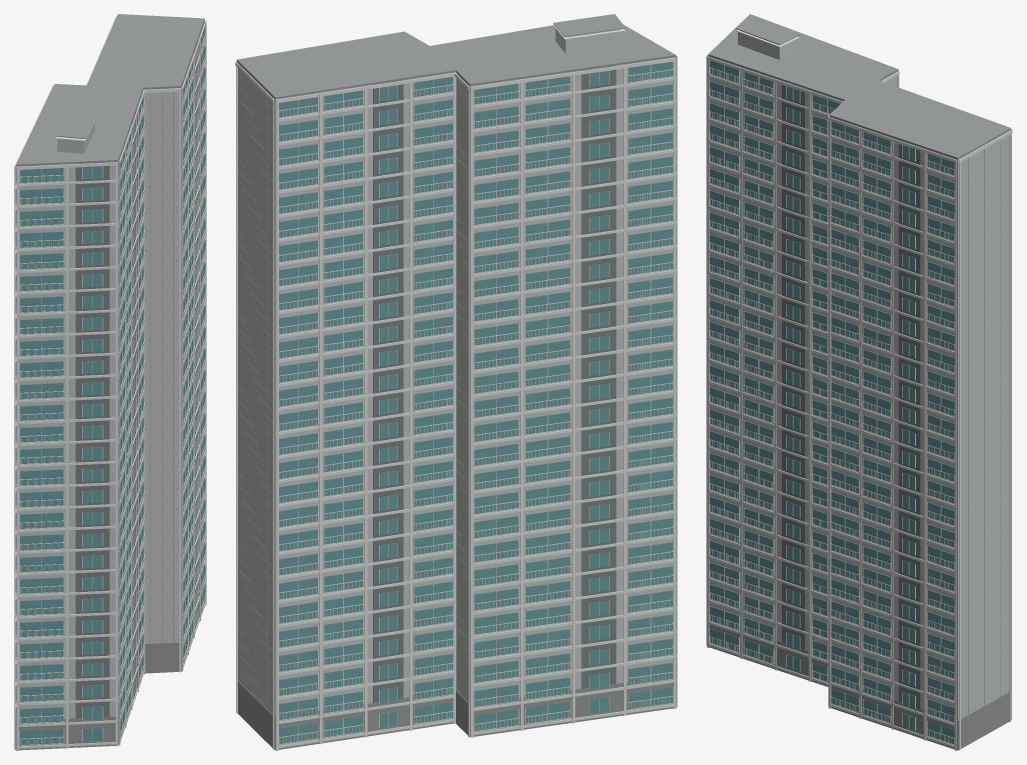
The model's file is bespoke-jamsil-ricenz-209.glb.
The picture shows the model from 3 angles, left to right: view 1: azimuth 30°, elevation 25°; view 2: azimuth 150°, elevation 25°; view 3: azimuth 270°, elevation 25°; orthographic projection. The views are drawn at different scales.
Parts seen in each view (by area): view 1: Ricenz209_editable_Ricenz209_turquoise_balcony_glazing, Ricenz209_editable_Ricenz209_light_grey_solid_wall, Ricenz209_white_exact_chunk_4, Ricenz209_editable_Ricenz209_modest_grey_flat_roof_caps, Ricenz209_editable_Ricenz209_narrow_charcoal_service_strips, Ricenz209_white_exact_chunk_5, Ricenz209_white_exact_chunk_0, Ricenz209_white_exact_chunk_3, Ricenz209_white_exact_chunk_1, Ricenz209_editable_Ricenz209_muted_ground_wall; view 2: Ricenz209_editable_Ricenz209_turquoise_balcony_glazing, Ricenz209_editable_Ricenz209_light_grey_solid_wall, Ricenz209_white_exact_chunk_2, Ricenz209_white_exact_chunk_3, Ricenz209_white_exact_chunk_1, Ricenz209_editable_Ricenz209_narrow_charcoal_service_strips, Ricenz209_editable_Ricenz209_modest_grey_flat_roof_caps, Ricenz209_editable_Ricenz209_muted_ground_wall, Ricenz209_white_exact_chunk_4; view 3: Ricenz209_editable_Ricenz209_turquoise_balcony_glazing, Ricenz209_editable_Ricenz209_light_grey_solid_wall, Ricenz209_white_exact_chunk_0, Ricenz209_white_exact_chunk_5, Ricenz209_editable_Ricenz209_modest_grey_flat_roof_caps, Ricenz209_white_exact_chunk_1, Ricenz209_editable_Ricenz209_narrow_charcoal_service_strips, Ricenz209_white_exact_chunk_4, Ricenz209_editable_Ricenz209_muted_ground_wall, Ricenz209_white_exact_chunk_2.
Boxes of the visible parts, x1,y1,x2,y2 form: Ricenz209_editable_Ricenz209_turquoise_balcony_glazing: (16,24,205,745); Ricenz209_editable_Ricenz209_light_grey_solid_wall: (16,21,204,720); Ricenz209_white_exact_chunk_4: (16,149,132,750); Ricenz209_editable_Ricenz209_modest_grey_flat_roof_caps: (16,14,204,643); Ricenz209_editable_Ricenz209_narrow_charcoal_service_strips: (75,40,198,718); Ricenz209_white_exact_chunk_5: (56,88,181,745); Ricenz209_white_exact_chunk_0: (182,46,206,669); Ricenz209_white_exact_chunk_3: (14,85,65,749); Ricenz209_white_exact_chunk_1: (182,19,206,671); Ricenz209_editable_Ricenz209_muted_ground_wall: (15,581,205,750); Ricenz209_editable_Ricenz209_turquoise_balcony_glazing: (279,61,672,743); Ricenz209_editable_Ricenz209_light_grey_solid_wall: (237,29,675,717); Ricenz209_white_exact_chunk_2: (275,72,572,750); Ricenz209_white_exact_chunk_3: (470,57,676,737); Ricenz209_white_exact_chunk_1: (235,60,409,749); Ricenz209_editable_Ricenz209_narrow_charcoal_service_strips: (373,65,616,702); Ricenz209_editable_Ricenz209_modest_grey_flat_roof_caps: (237,14,675,711); Ricenz209_editable_Ricenz209_muted_ground_wall: (238,679,673,750); Ricenz209_white_exact_chunk_4: (676,55,677,707); Ricenz209_editable_Ricenz209_turquoise_balcony_glazing: (710,60,954,744); Ricenz209_editable_Ricenz209_light_grey_solid_wall: (708,30,1010,720); Ricenz209_white_exact_chunk_0: (830,121,954,747); Ricenz209_white_exact_chunk_5: (707,30,843,706); Ricenz209_editable_Ricenz209_modest_grey_flat_roof_caps: (708,14,1010,715); Ricenz209_white_exact_chunk_1: (828,117,1012,750); Ricenz209_editable_Ricenz209_narrow_charcoal_service_strips: (782,81,920,708); Ricenz209_white_exact_chunk_4: (706,16,774,667); Ricenz209_editable_Ricenz209_muted_ground_wall: (709,621,1009,750); Ricenz209_white_exact_chunk_2: (881,71,1012,719).
Size of the model in its own units: 42.24 by 82.73 by 37.67.
